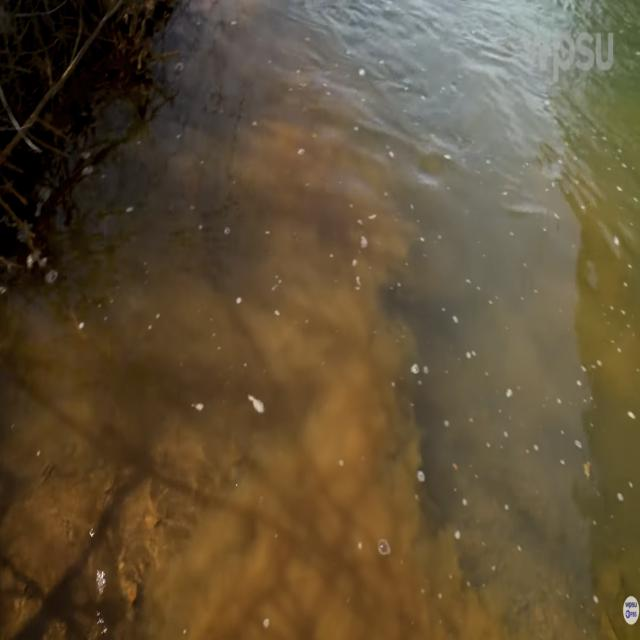yellow_boy: (0, 49, 519, 639)
